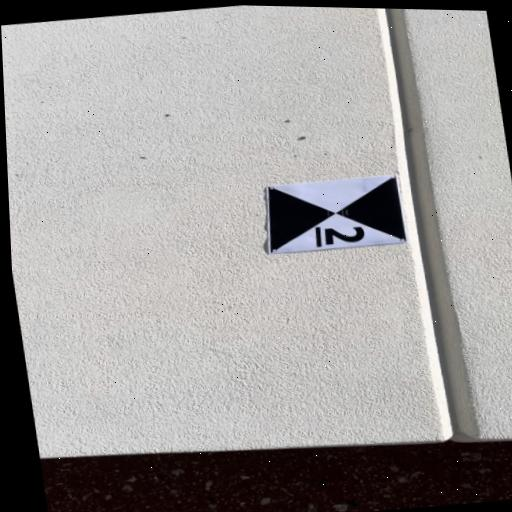target2: (268, 175, 408, 254)
